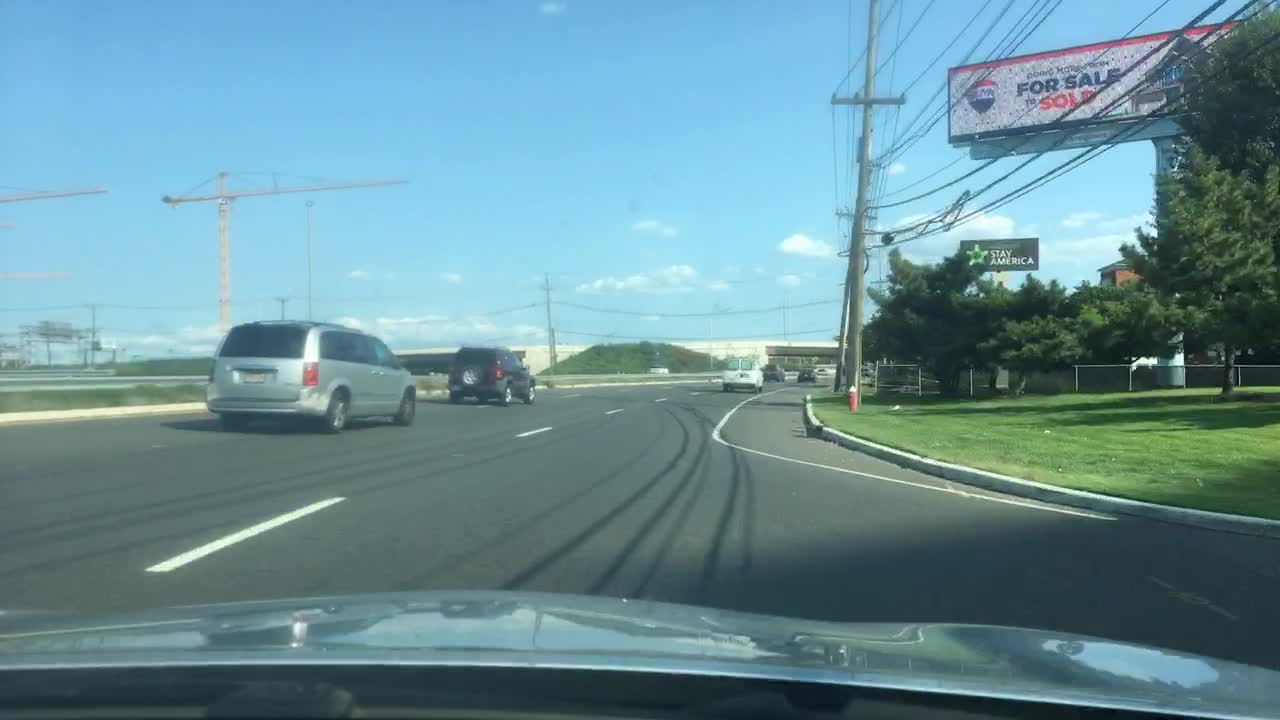car: (203, 314, 416, 432), (446, 344, 539, 404), (723, 350, 763, 391), (795, 367, 820, 384), (763, 364, 786, 379)
